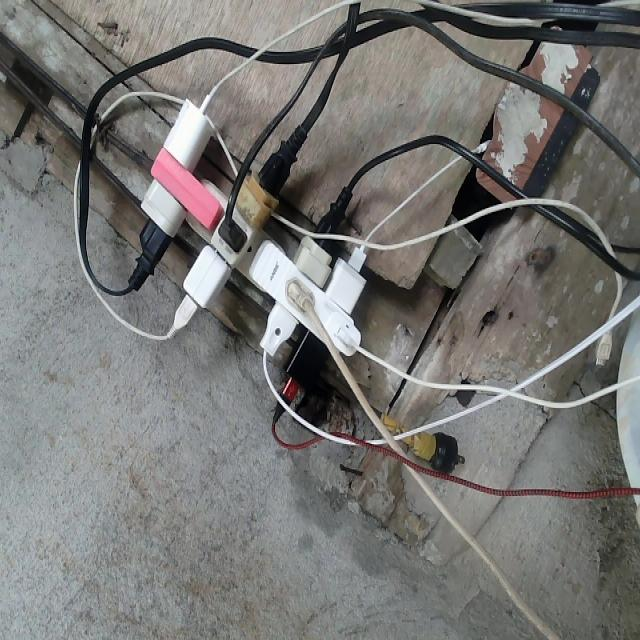-: (125, 90, 375, 390)
